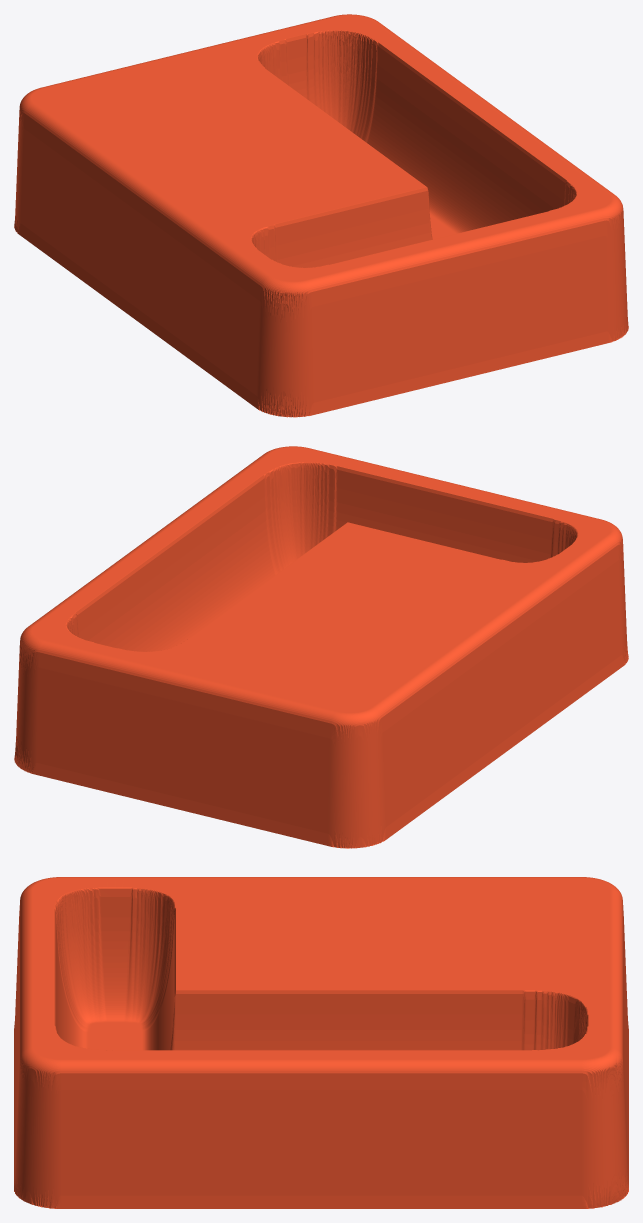
File: mold.glb
3 renders of one model, top to bottom at view 1: azimuth 30°, elevation 25°; view 2: azimuth 150°, elevation 25°; view 3: azimuth 270°, elevation 25°, orthographic. The views are drawn at different scales.
Parts seen in each view (by area): view 1: geometry_0; view 2: geometry_0; view 3: geometry_0.
Boxes of the visible parts, left/top/right/bottom form: geometry_0: left=14, top=14, right=628, bottom=417; geometry_0: left=14, top=446, right=628, bottom=848; geometry_0: left=14, top=877, right=628, bottom=1208.
Size of the model in its own units: 0.0894 by 0.0299 by 0.1178.
